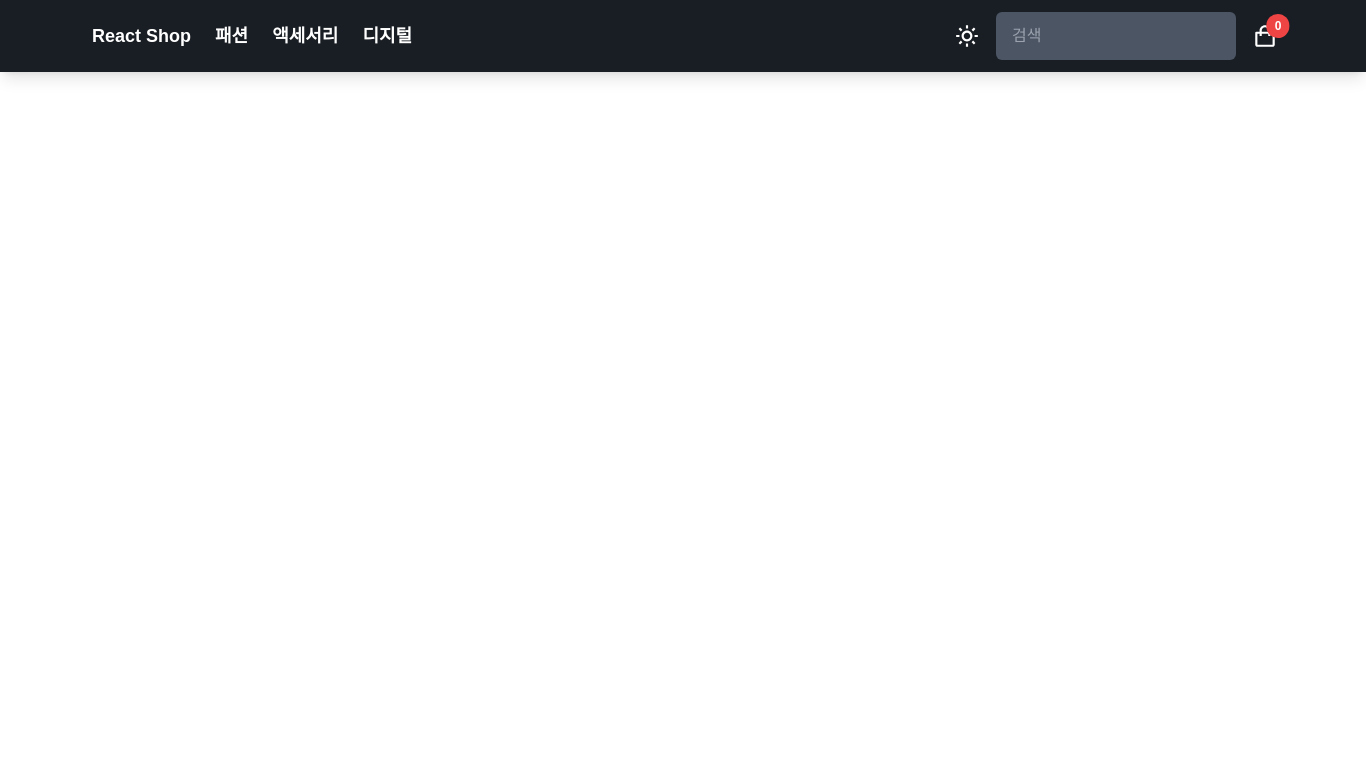
header 테스트 › 헤더 디지털 클릭시 정상적으로 라우팅 되는가?
Click the link with test id "mainDigital" at {"x": 387, "y": 36}, box [362,26,412,46]
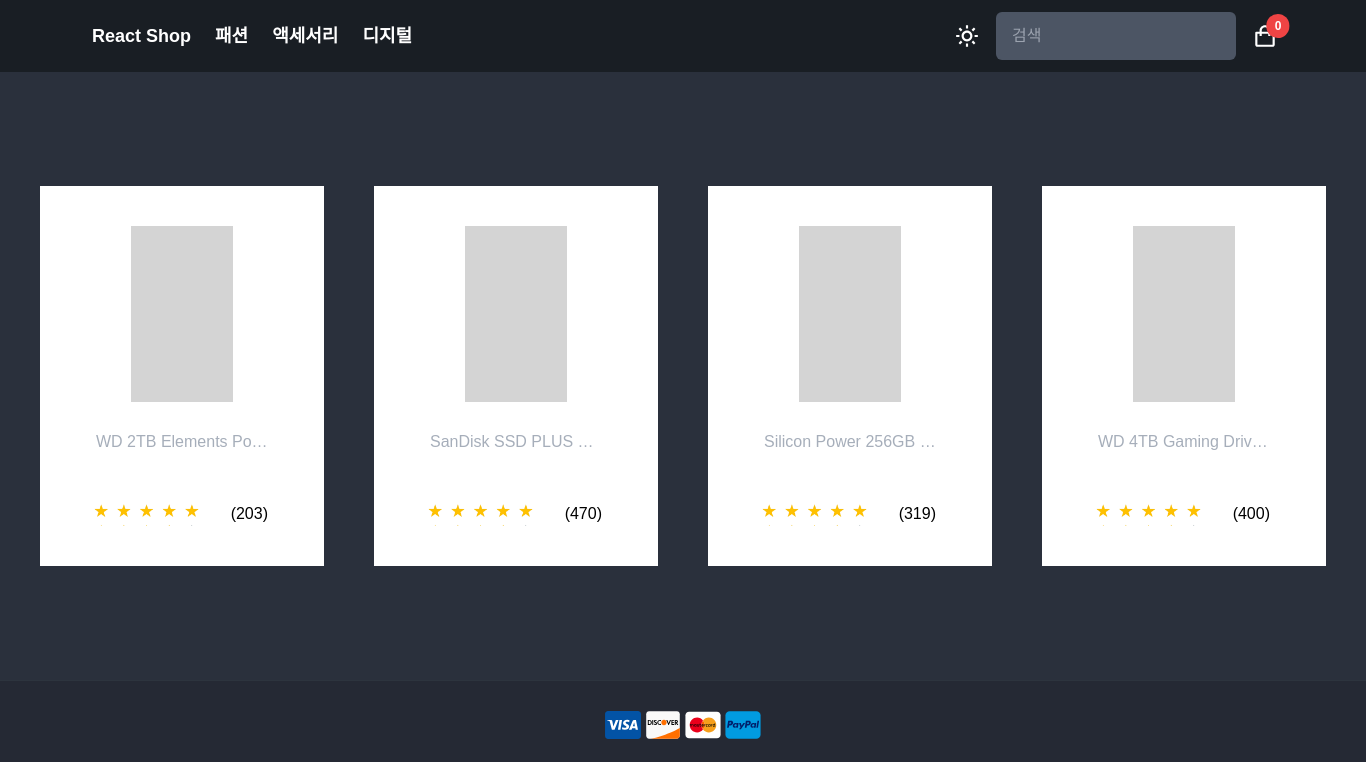
Check: the 1st element with test id "swiper" is shown
